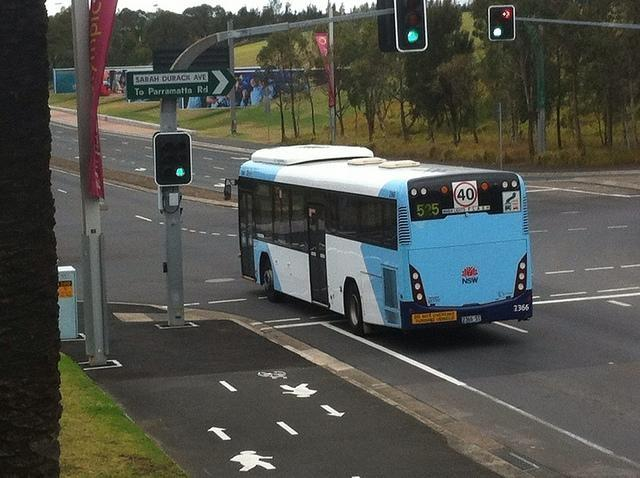bus: (243, 141, 539, 335)
